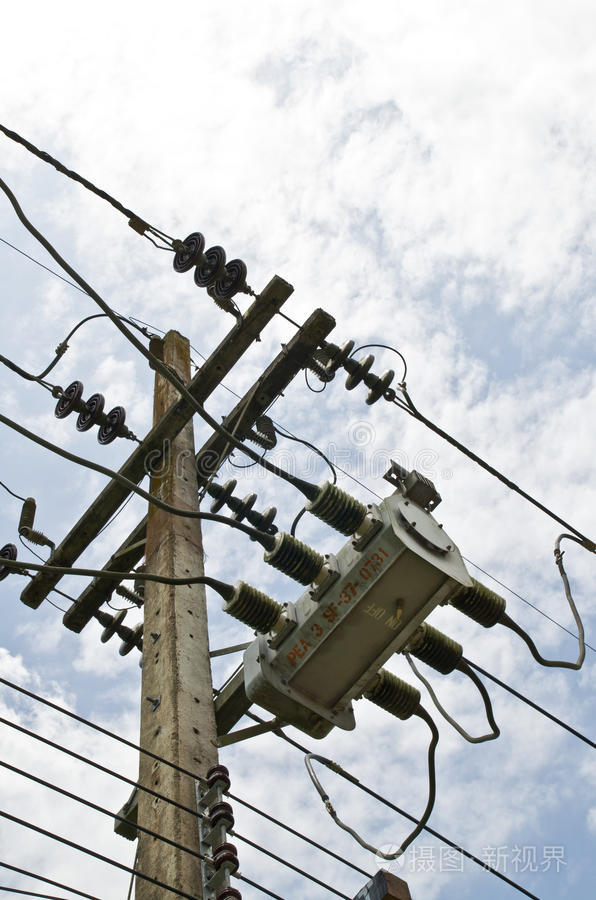insulator: (319, 340, 414, 415), (50, 379, 132, 449), (171, 226, 249, 297), (201, 476, 281, 540), (96, 608, 149, 662)
